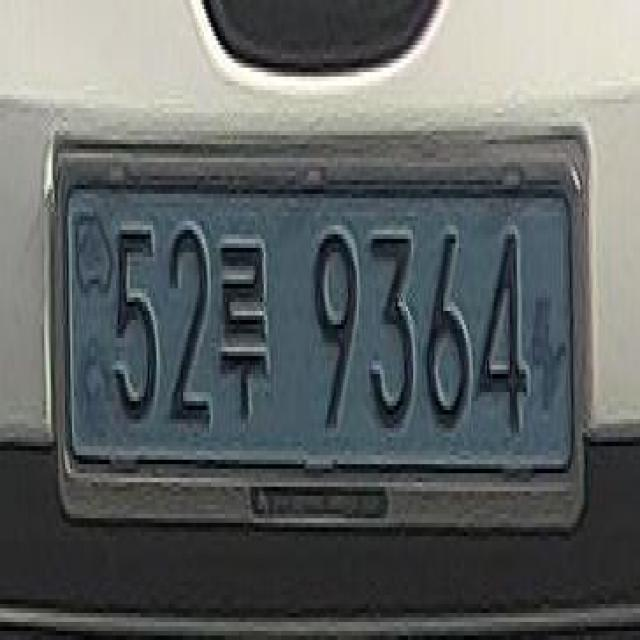EV_plate: (44, 120, 593, 555)
